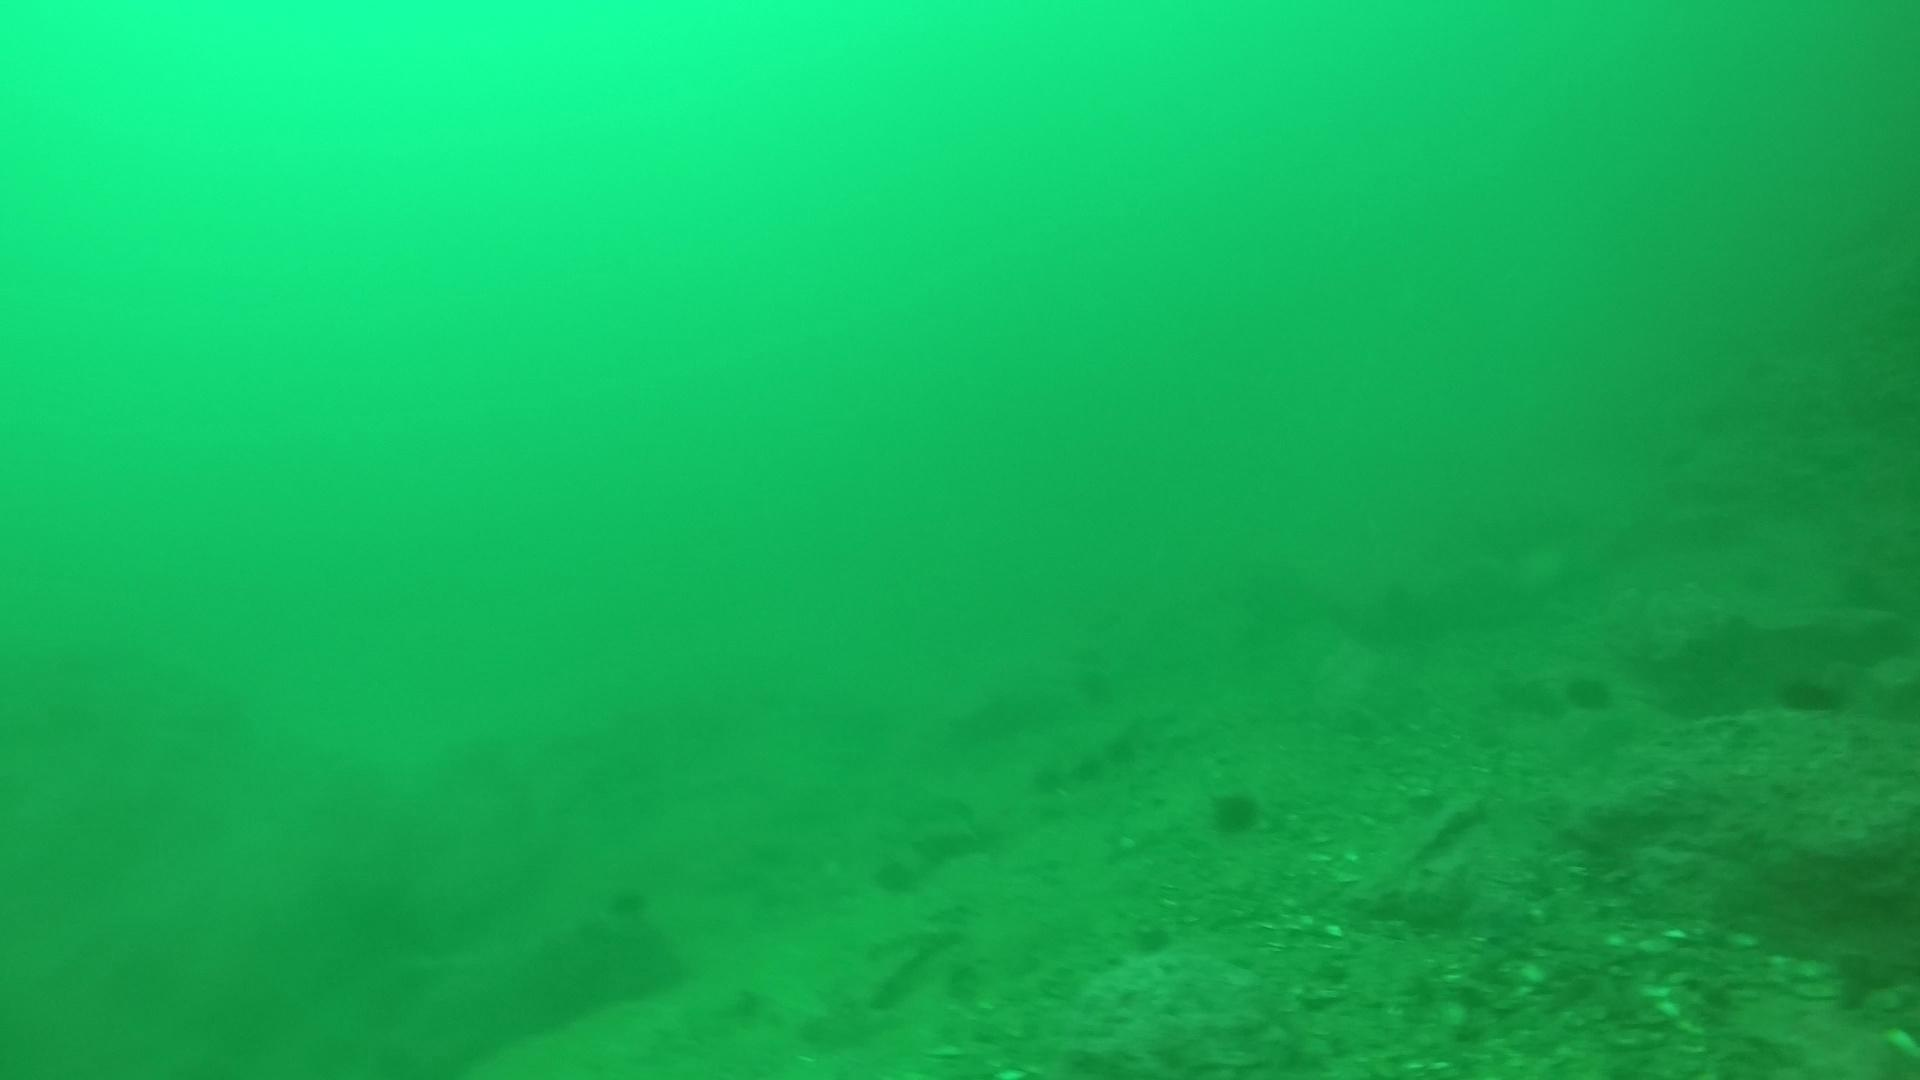echinus: (1774, 665, 1847, 721), (1203, 781, 1269, 840), (1120, 911, 1185, 971), (928, 939, 994, 998), (591, 878, 657, 938), (1015, 753, 1081, 812), (1043, 749, 1109, 808), (1076, 723, 1142, 781), (1560, 665, 1619, 717), (868, 849, 924, 899)
